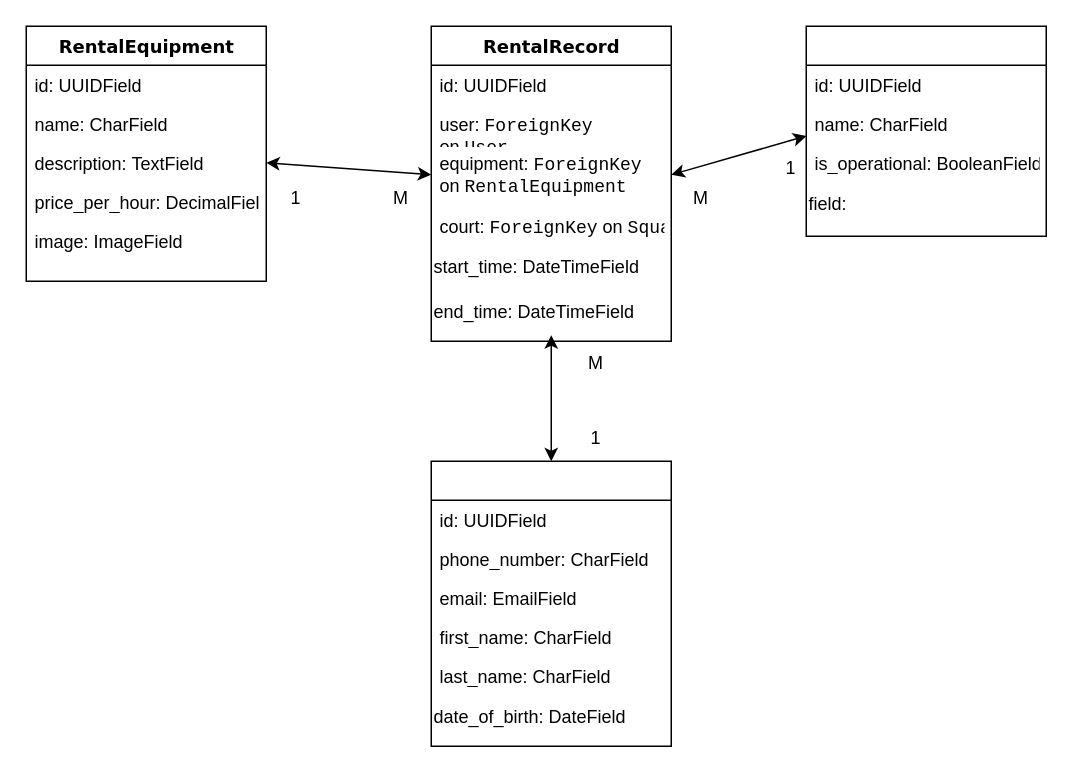
This 1073x773 diagram has some shape labels left out. The box of each missing label's shape, as (x1, y1, x2, y2) in pixels:
SquashCourt: (805, 25, 1046, 236)
User: (430, 460, 671, 746)
